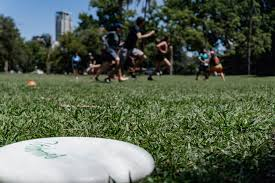disc: (0, 137, 154, 183)
